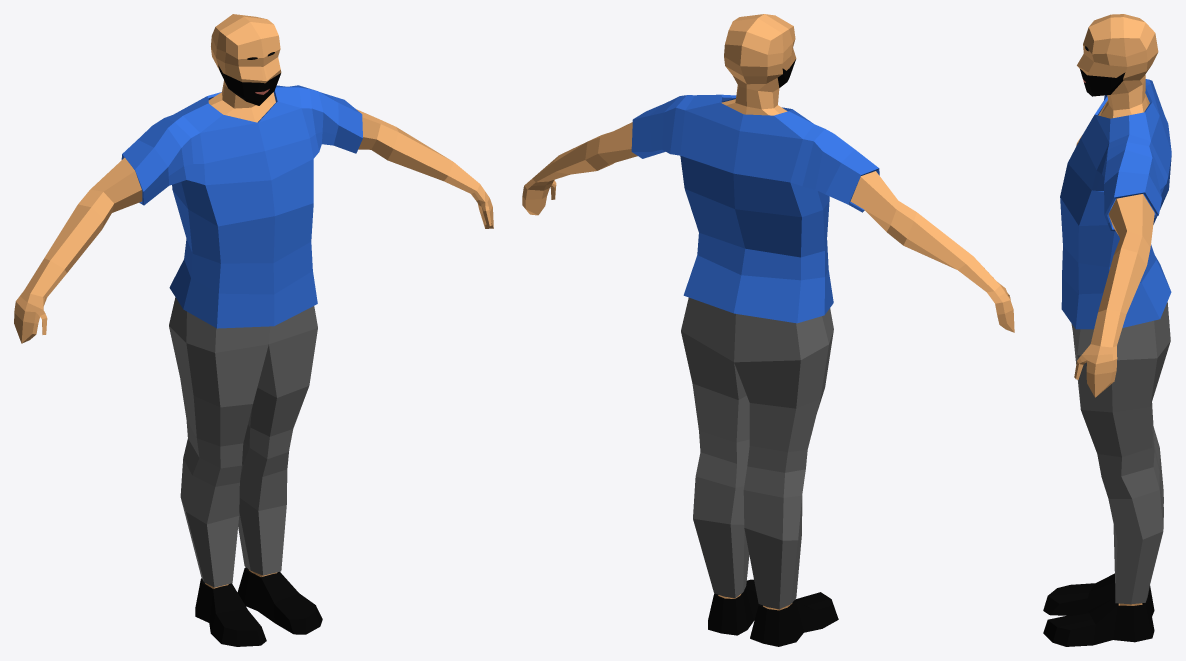
Rendered from FinalCharacter.fbx.
The picture shows the model from 3 angles, left to right: view 1: azimuth 30°, elevation 25°; view 2: azimuth 150°, elevation 25°; view 3: azimuth 270°, elevation 25°; orthographic projection. The views are drawn at different scales.
Visible parts, largest first — view 1: Body; view 2: Body; view 3: Body.
Boxes of the visible parts, left/top/right/bottom form: Body: left=14, top=14, right=493, bottom=646; Body: left=522, top=14, right=1014, bottom=646; Body: left=1043, top=14, right=1171, bottom=646.
Bounding box in the file's own units: 537 × 646 × 124.
